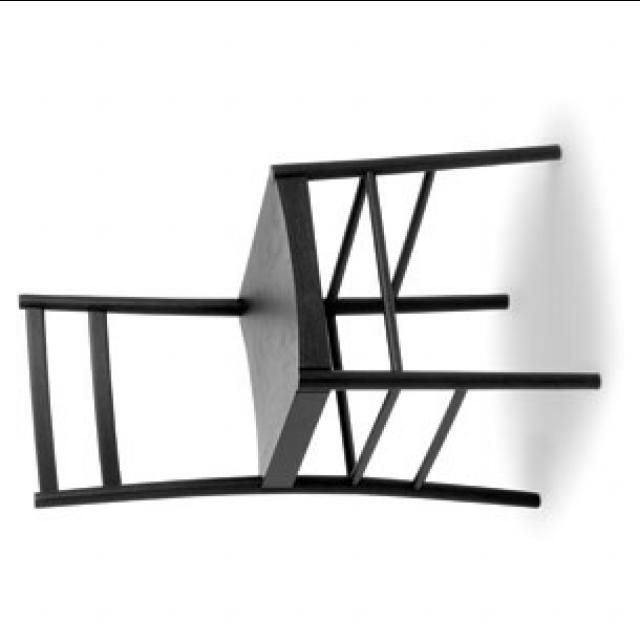chair: (14, 142, 604, 508)
